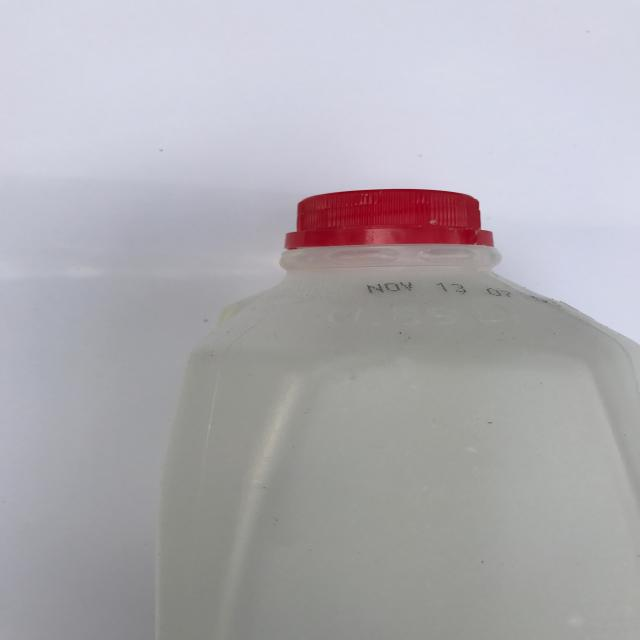plastic: (154, 187, 639, 640)
